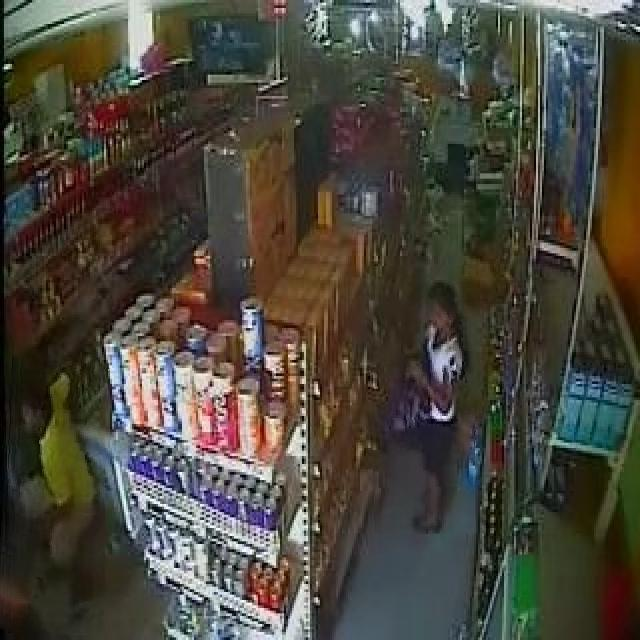Normal: (0, 357, 105, 633), (367, 266, 475, 534)
